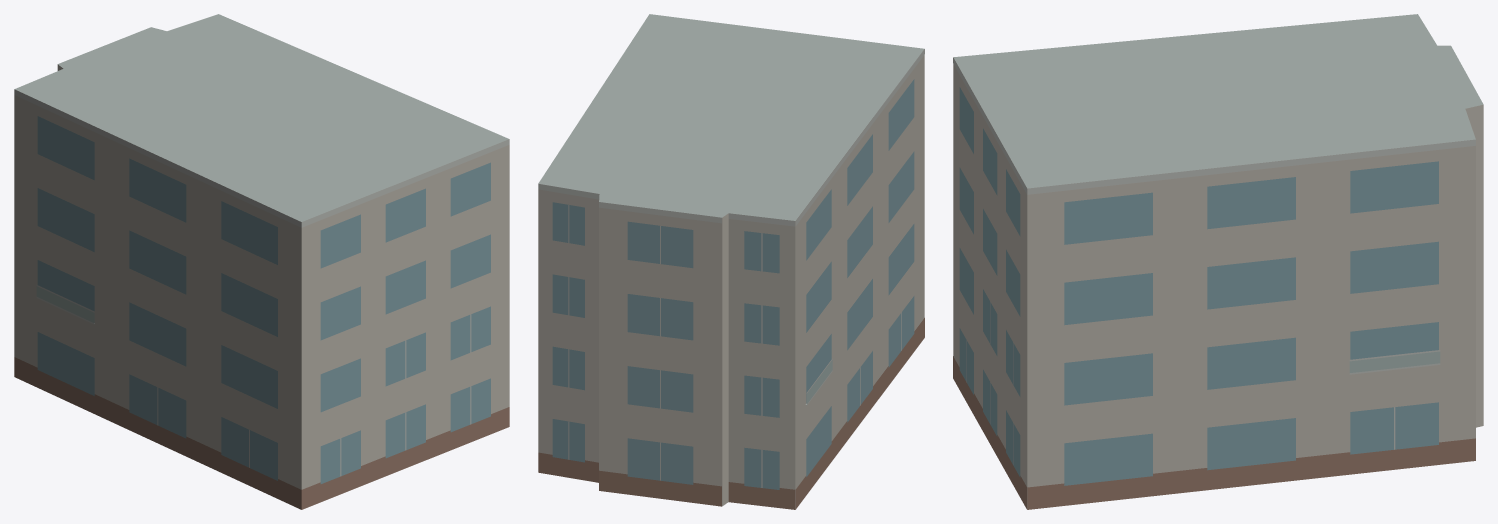
The model's file is survey-upis-32637557.glb.
The picture shows the model from 3 angles, left to right: view 1: azimuth 30°, elevation 25°; view 2: azimuth 150°, elevation 25°; view 3: azimuth 270°, elevation 25°; orthographic projection. The views are drawn at different scales.
Parts seen in each view (by area): view 1: survey-upis-32637557.tmp; view 2: survey-upis-32637557.tmp; view 3: survey-upis-32637557.tmp.
Boxes of the visible parts, <box> form: survey-upis-32637557.tmp: <box>14,14,509,509</box>; survey-upis-32637557.tmp: <box>538,14,924,509</box>; survey-upis-32637557.tmp: <box>953,14,1483,509</box>.
Bounding box in the file's own units: 14.49 × 12.43 × 18.61.
